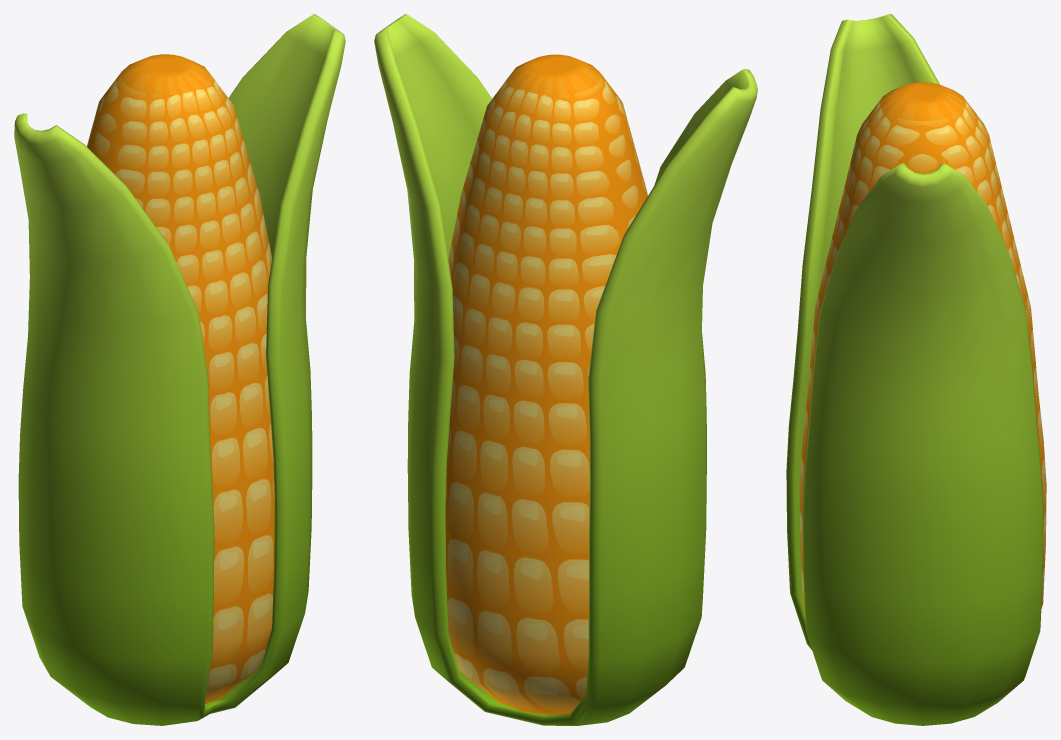
The model's file is Corn.fbx.
The picture shows the model from 3 angles, left to right: view 1: azimuth 30°, elevation 25°; view 2: azimuth 150°, elevation 25°; view 3: azimuth 270°, elevation 25°; orthographic projection. The views are drawn at different scales.
Visible parts, largest first — view 1: Corn; view 2: Corn; view 3: Corn.
Part boxes in pixels (box(x1,y1,x2,y2)): Corn: box(14, 14, 345, 725); Corn: box(374, 14, 757, 725); Corn: box(786, 14, 1046, 725).
Bounding box in the file's own units: 12.87 × 23.12 × 8.77.
